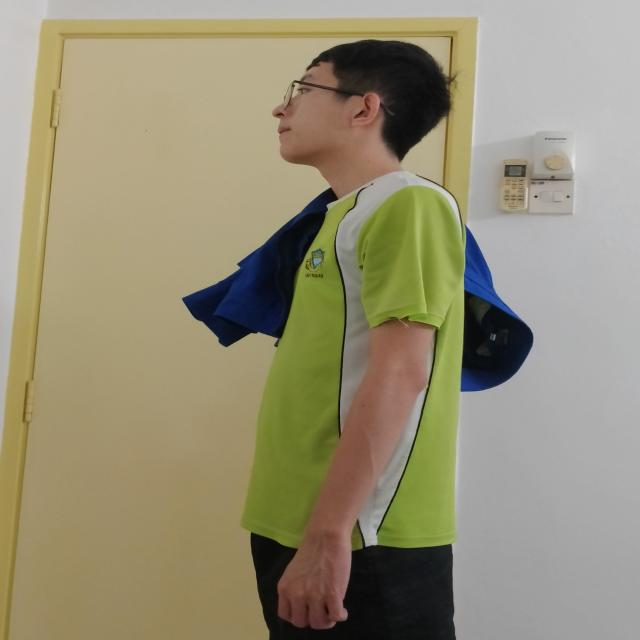person_without_labcoat: (184, 40, 532, 640)
